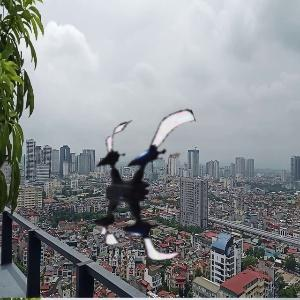drone: (68, 118, 220, 270)
